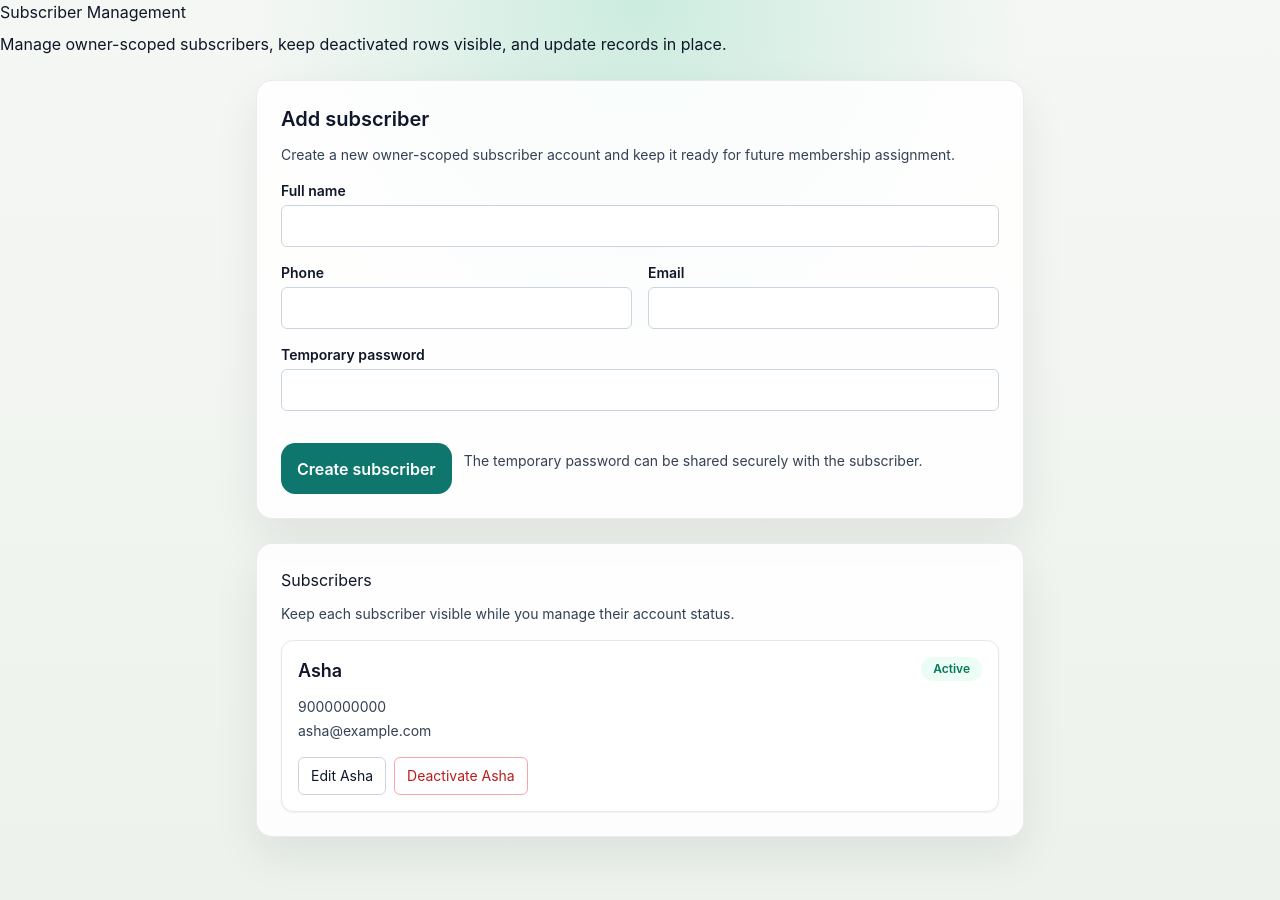
Test: soft-deletes a subscriber after confirmation and keeps it visible
The image size is (1280, 900).
Expected: the heading "Subscribers" is shown, [281,570,372,590]
Click the button "Deactivate Asha" at (461, 776), box [394,757,528,795]
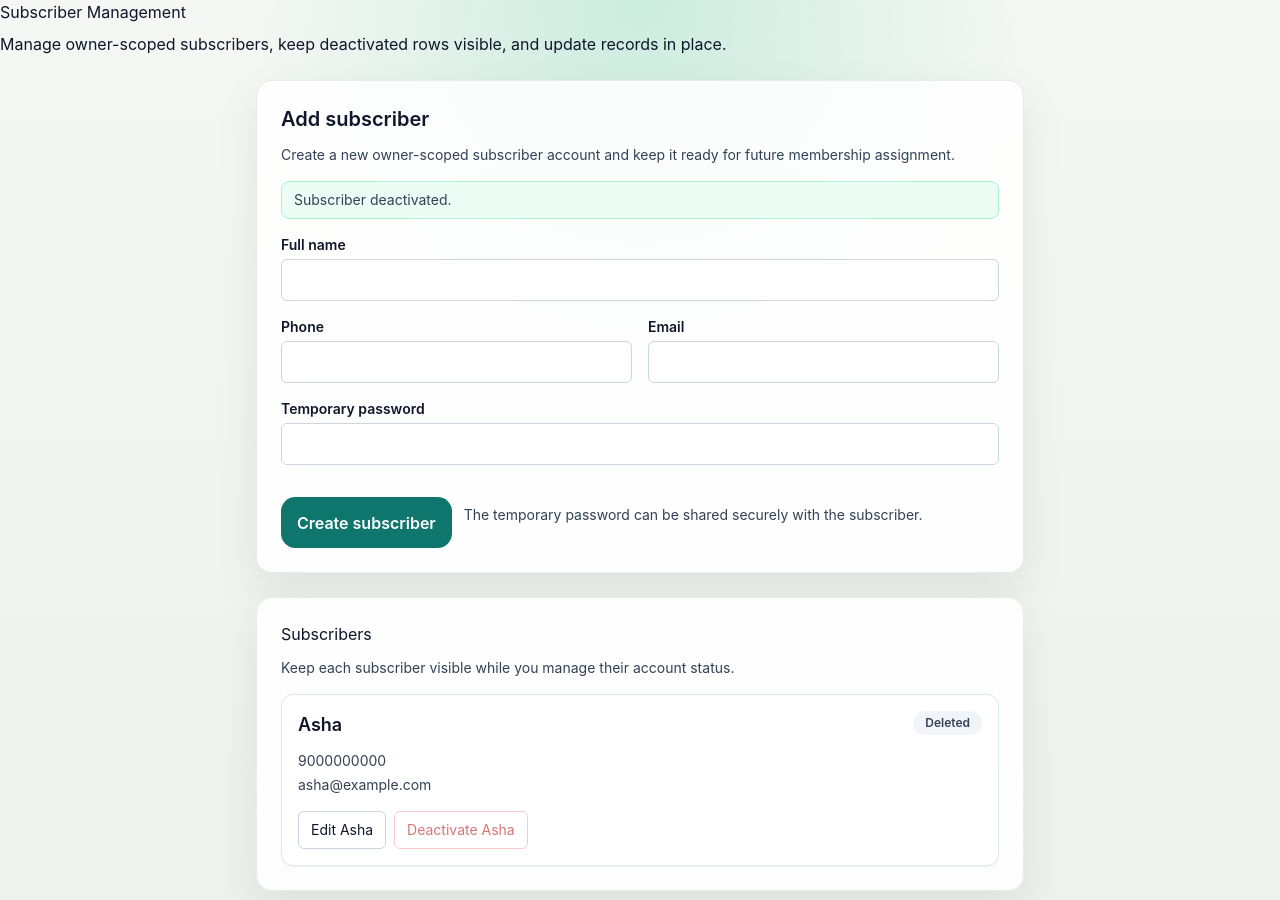
Expected: the heading "Asha" is shown, [298,714,342,735]
Expected: the text "Subscriber deactivated." is shown, [281,181,999,219]
Expected: the text "Deleted" is shown, [913,711,982,735]
